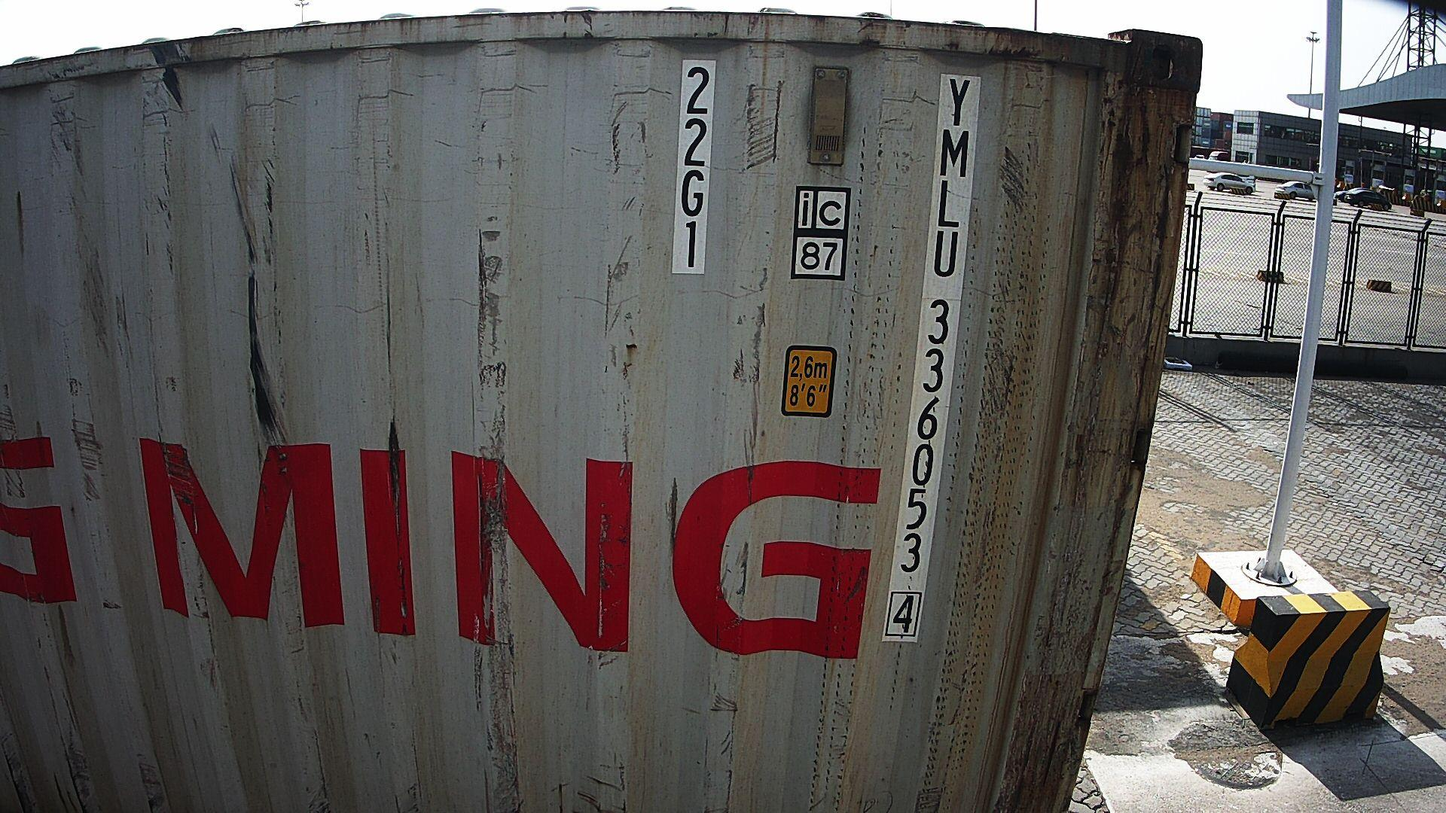container-numbers: (880, 74, 984, 645), (670, 60, 715, 278)
